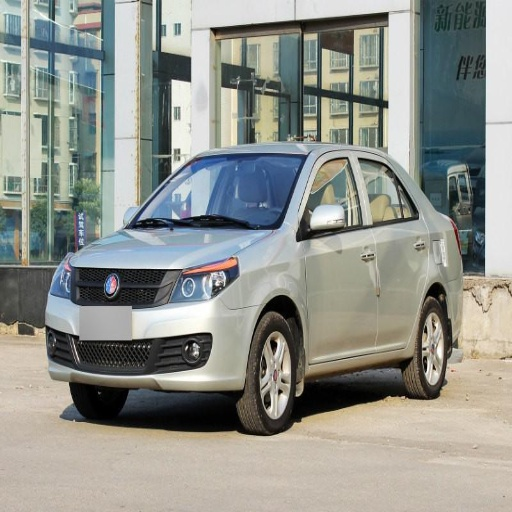front_bumper: (46, 266, 261, 390)
front_glass: (126, 156, 307, 229)
front_left_door: (302, 153, 376, 363)
